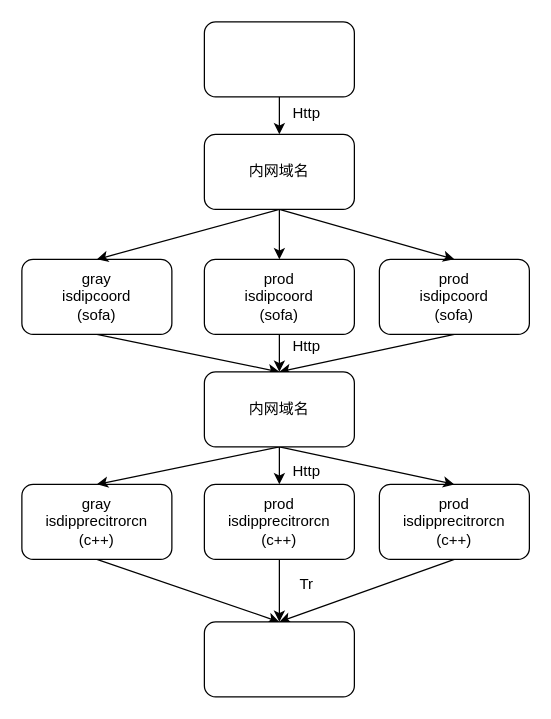
The diagram is 551 pixels wide and 719 high, and some of its shapes have lost their labels. The shapes that lost their labels are listed below. From the top down, each one's centre as x and y in pixels, then its label:
At point (278, 59): "国际风控应用".
At point (278, 659): "prod feature service (sofa)".
